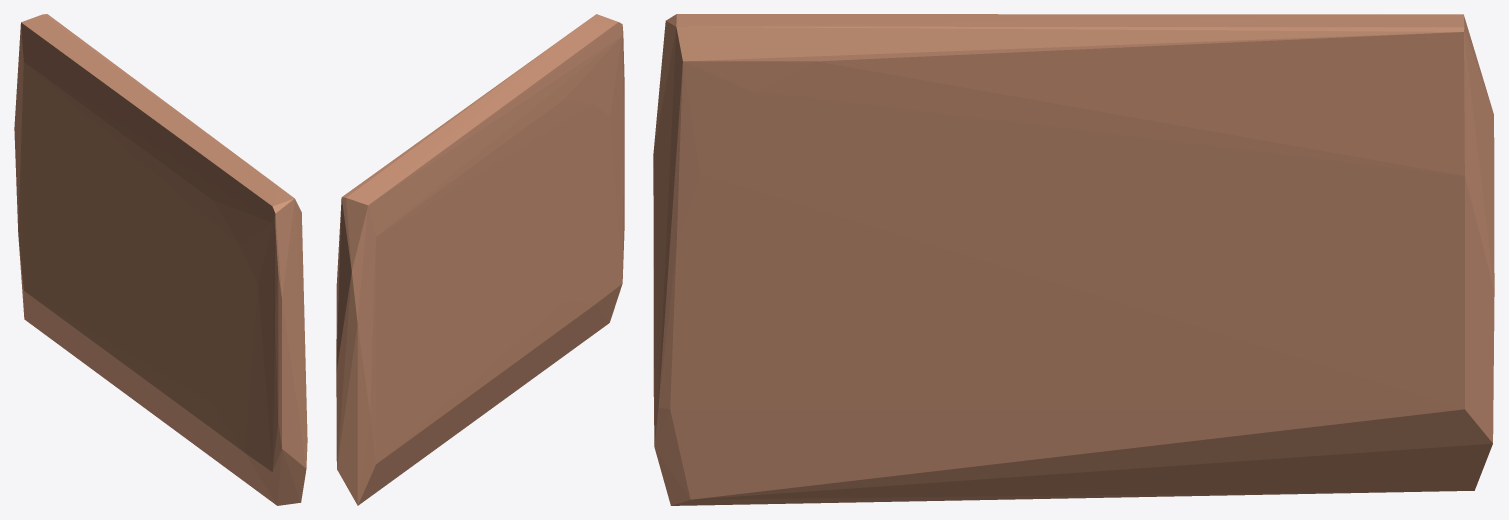
The model's file is kitchenware_cuttingBoard_c01.glb.
3 renders of one model, left to right at view 1: azimuth 30°, elevation 25°; view 2: azimuth 150°, elevation 25°; view 3: azimuth 270°, elevation 25°, orthographic. The views are drawn at different scales.
Parts seen in each view (by area): view 1: geometry_0; view 2: geometry_0; view 3: geometry_0.
Boxes of the visible parts, left/top/right/bottom form: geometry_0: left=14, top=14, right=307, bottom=505; geometry_0: left=336, top=14, right=624, bottom=505; geometry_0: left=653, top=14, right=1494, bottom=505.
Bounding box in the file's own units: 0.0362 × 0.2997 × 0.4781.
